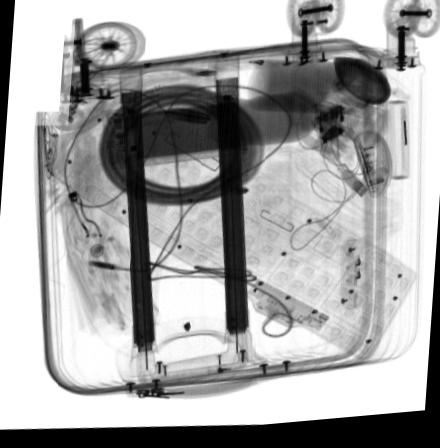Powerbank: (102, 96, 246, 172)
